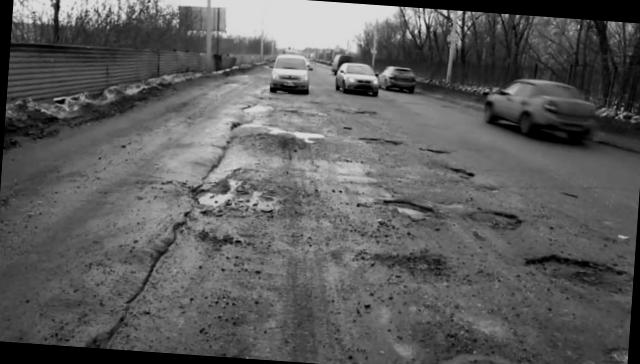Pothole: (527, 230, 636, 305), (195, 174, 299, 216), (223, 114, 328, 152), (462, 202, 544, 238), (368, 192, 442, 224), (440, 161, 480, 188), (365, 132, 405, 154), (418, 143, 451, 161)
